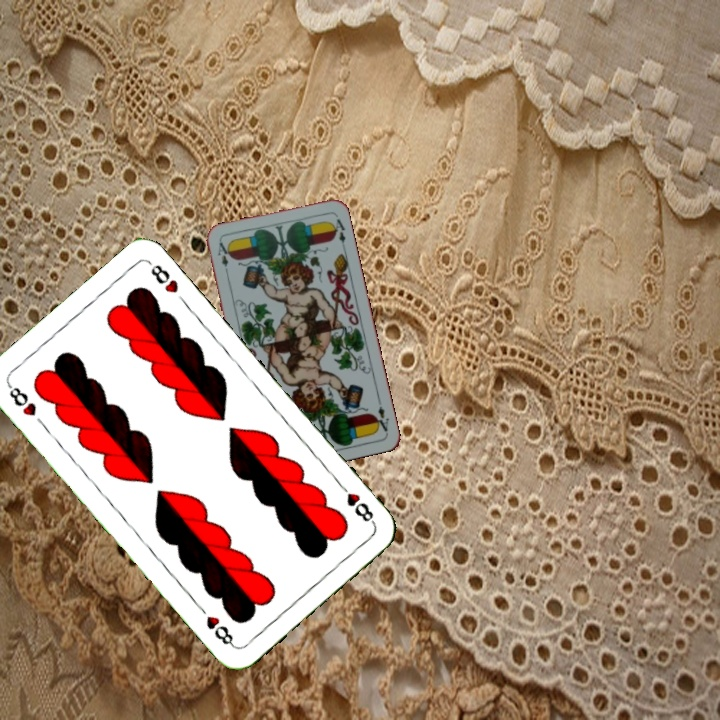EA: (371, 395, 391, 434), (213, 238, 231, 278)
H8: (334, 478, 378, 527), (3, 380, 39, 419)
